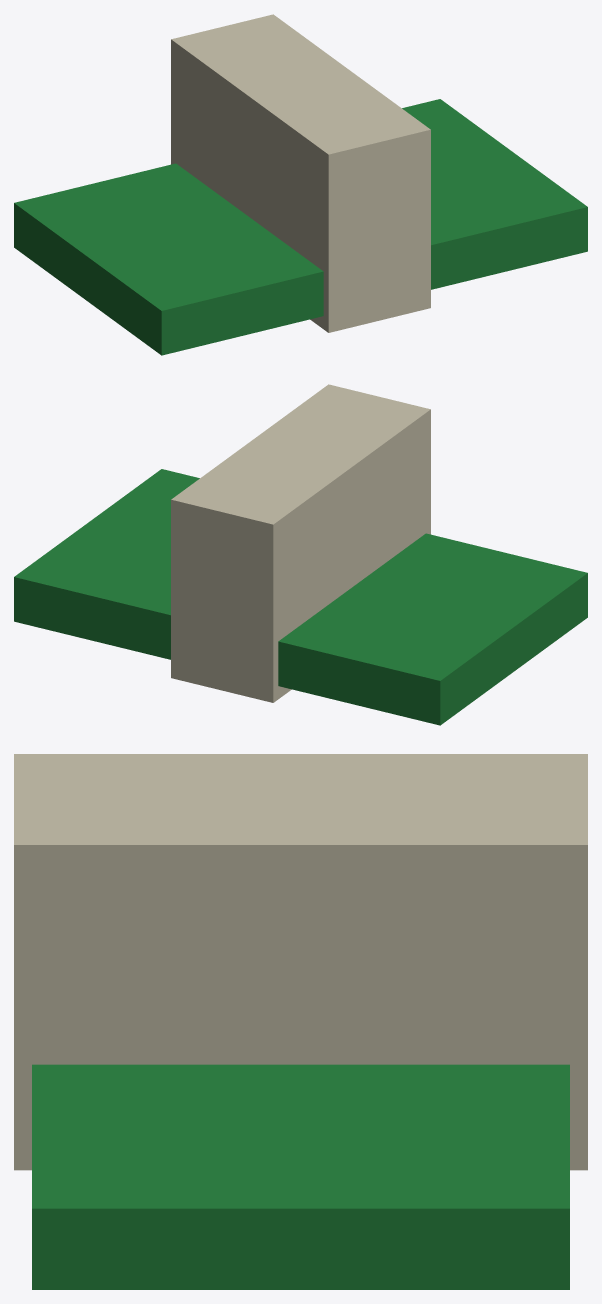
Rendered from mobile-low.glb.
3 renders of one model, top to bottom at view 1: azimuth 30°, elevation 25°; view 2: azimuth 150°, elevation 25°; view 3: azimuth 270°, elevation 25°, orthographic. The views are drawn at different scales.
Visible parts, largest first — view 1: pickup-cash; view 2: pickup-cash; view 3: pickup-cash.
Part boxes in pixels (x1,y1,x2,y2): pickup-cash: (14, 14, 587, 355); pickup-cash: (14, 384, 587, 725); pickup-cash: (14, 754, 587, 1289).
Size of the model in its own units: 0.5 by 0.2 by 0.32.
